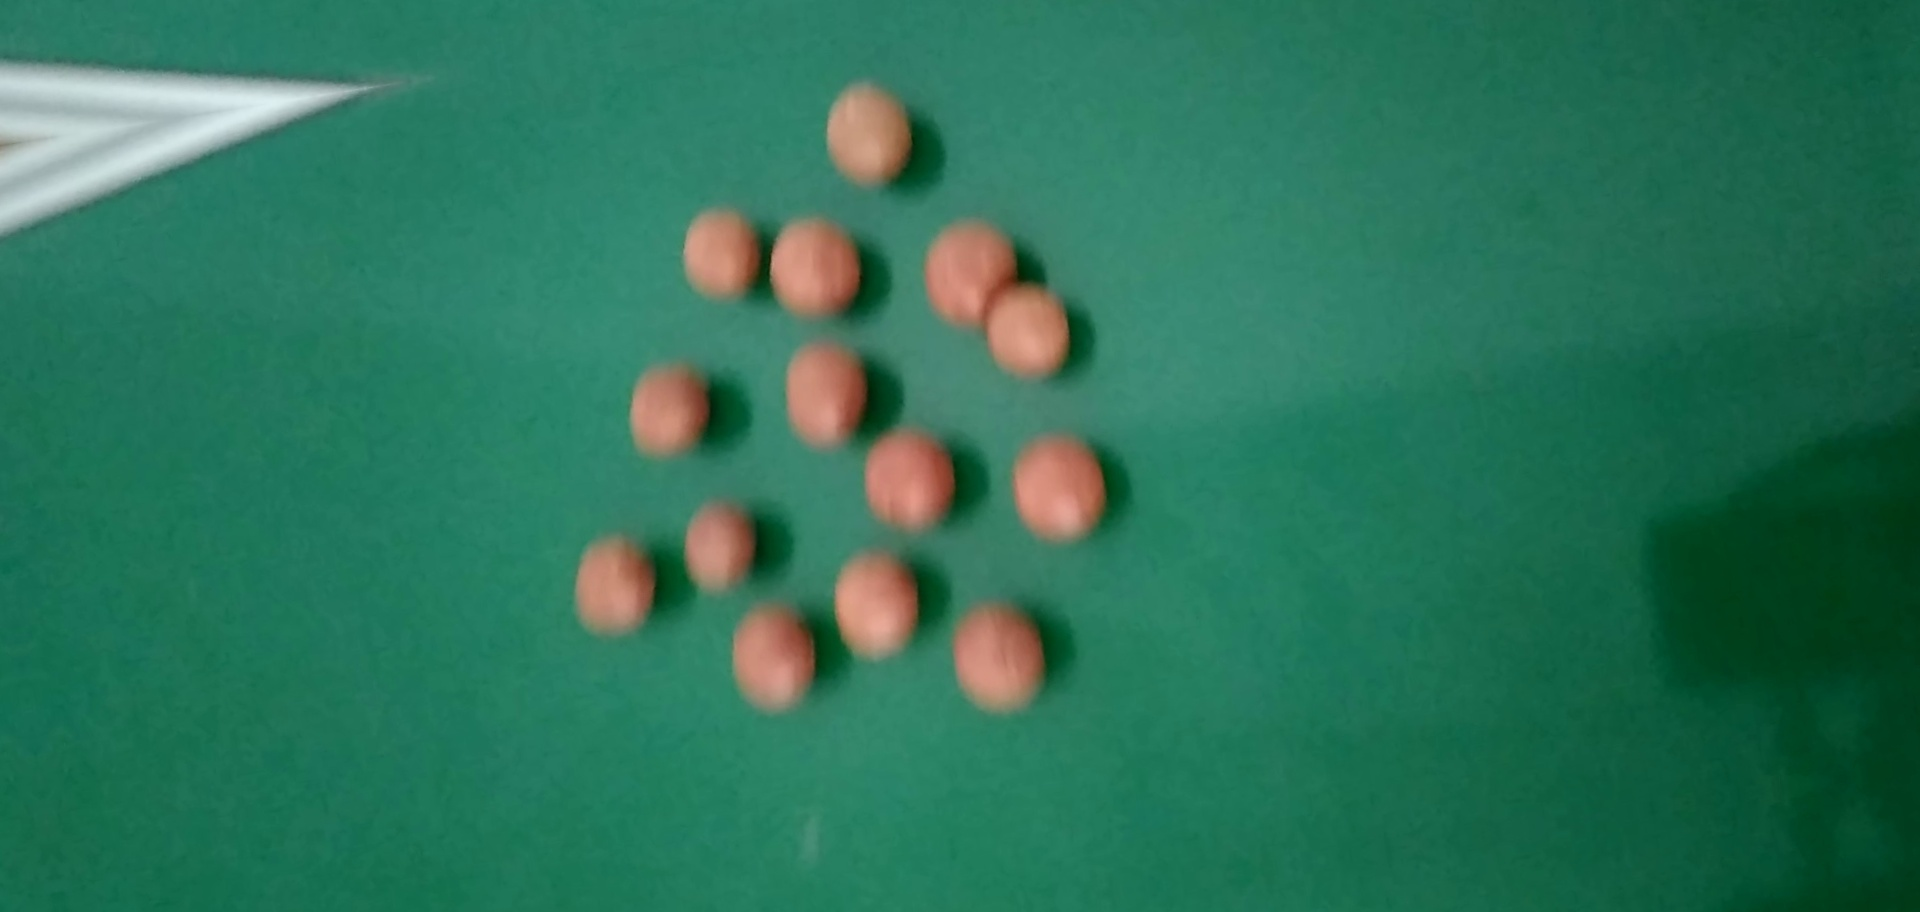mac: (762, 201, 868, 324), (942, 599, 1053, 715), (814, 77, 920, 195), (823, 544, 924, 662), (560, 526, 665, 640), (1007, 430, 1108, 546), (721, 605, 823, 716), (856, 428, 960, 536), (620, 351, 715, 465), (920, 213, 1016, 324), (676, 198, 769, 312), (781, 338, 873, 449), (981, 275, 1068, 379), (677, 496, 765, 595)
